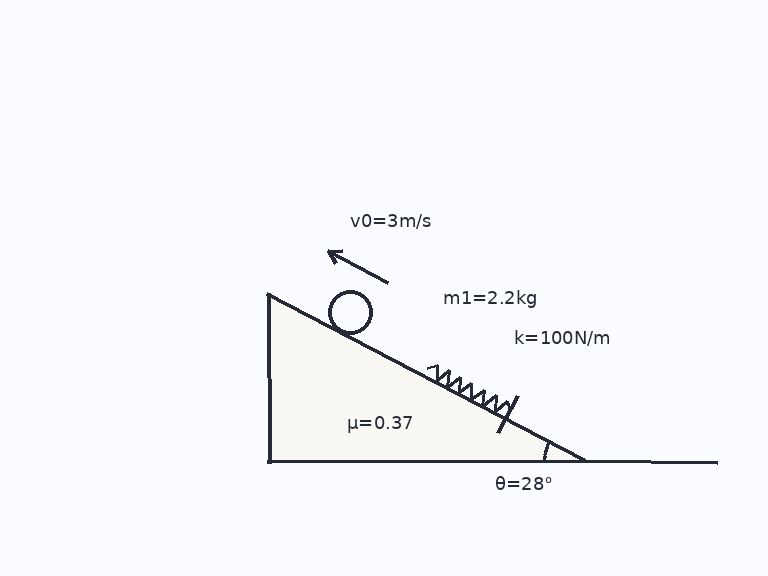ball: (326, 288, 374, 336)
ramp: (267, 291, 586, 463)
spring: (425, 363, 511, 413)
